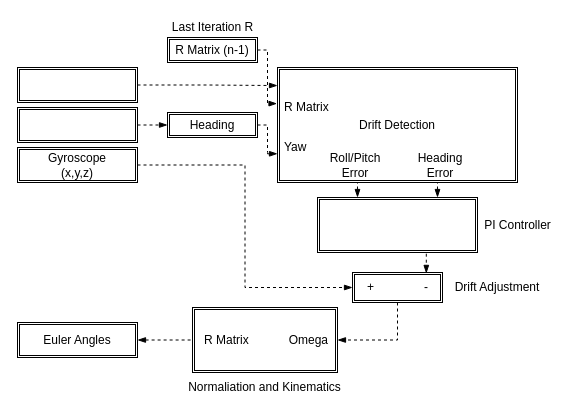
The diagram is 573 pixels wide and 414 high, and some of its shapes have lost their labels. The centre of each missing label's shape, as x and y in pixels:
"Accelerometer (x,y,z)" goes at point 77,84.
"Error Adjustment" goes at point 397,224.
"Magnetometer (x,y,z)" goes at point 77,124.
